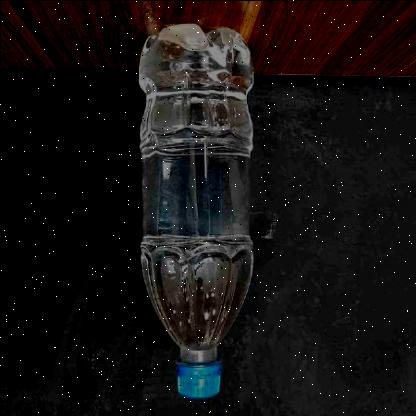Plastic Bottle: (137, 23, 255, 399)
